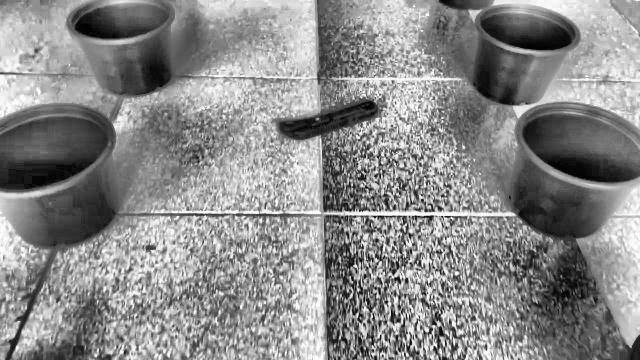pot: (508, 102, 640, 239), (0, 104, 120, 249), (472, 4, 582, 107), (66, 0, 175, 98)
